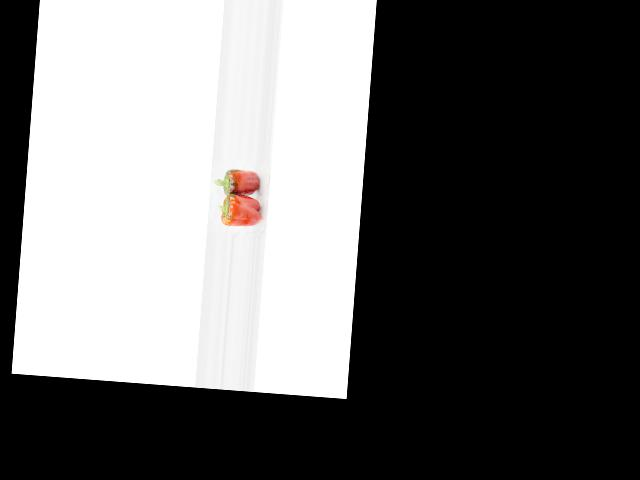bell_pepper: (214, 193, 263, 233)
